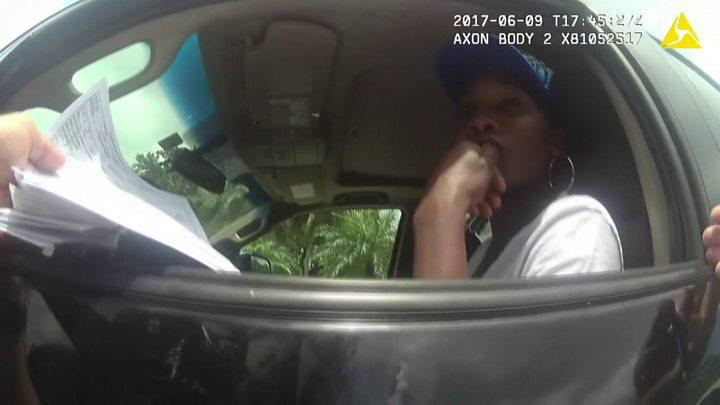car: (6, 1, 720, 402)
